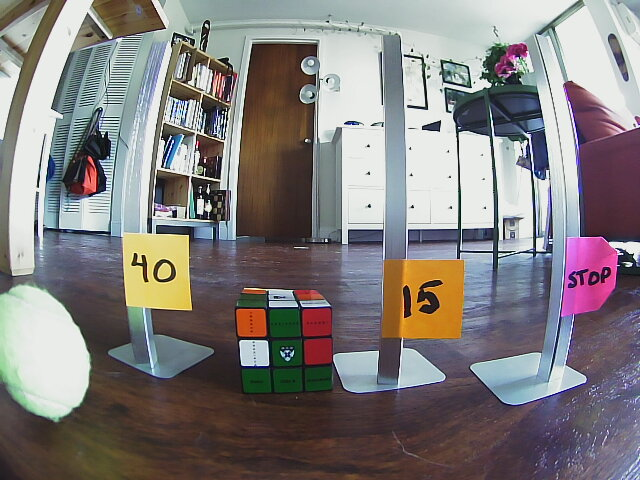15: (383, 264, 462, 335)
40: (122, 233, 189, 304)
ball: (1, 283, 91, 415)
cube: (235, 282, 336, 390)
stop: (567, 240, 614, 311)
